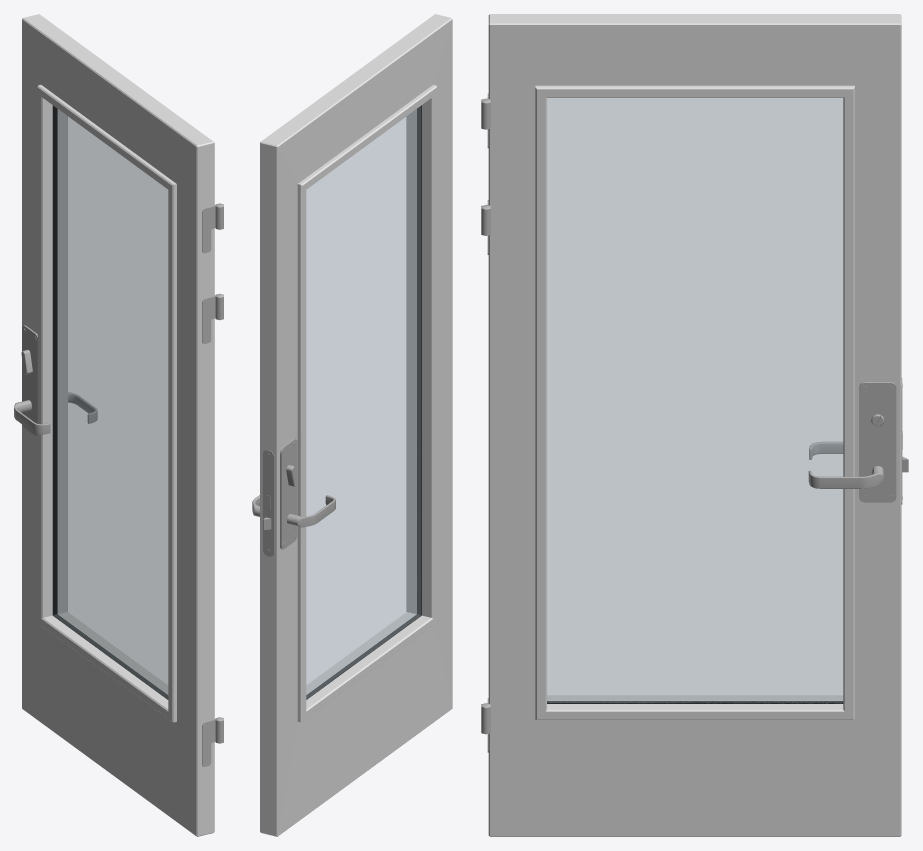
The model's file is ww_door_type_c_base.fbx.
3 views of the same model, side by side, from view 1: azimuth 30°, elevation 25°; view 2: azimuth 150°, elevation 25°; view 3: azimuth 270°, elevation 25° (orthographic). The views are drawn at different scales.
Parts seen in each view (by area): view 1: generisk_dør_type_c_blad; view 2: generisk_dør_type_c_blad; view 3: generisk_dør_type_c_blad.
Part boxes in pixels (bbox=[...]): generisk_dør_type_c_blad: bbox=[14, 14, 223, 836]; generisk_dør_type_c_blad: bbox=[252, 14, 452, 836]; generisk_dør_type_c_blad: bbox=[481, 14, 908, 836].
Size of the model in its own units: 22.4 by 235 by 112.
